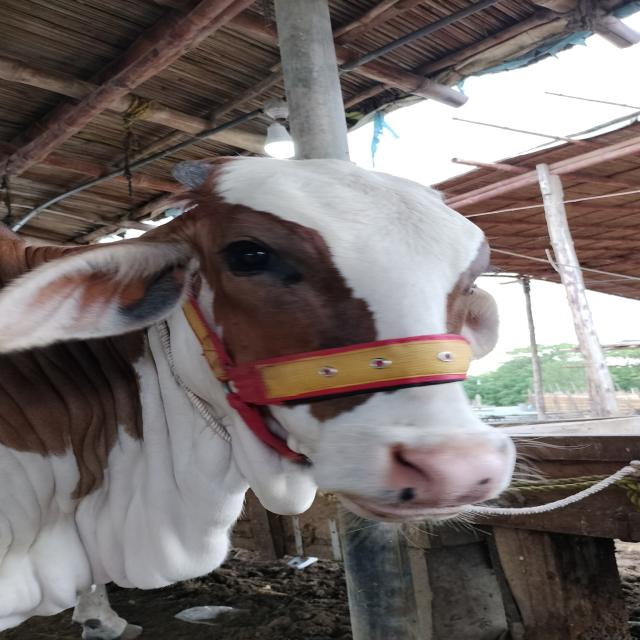muzzles: (367, 426, 529, 516)
